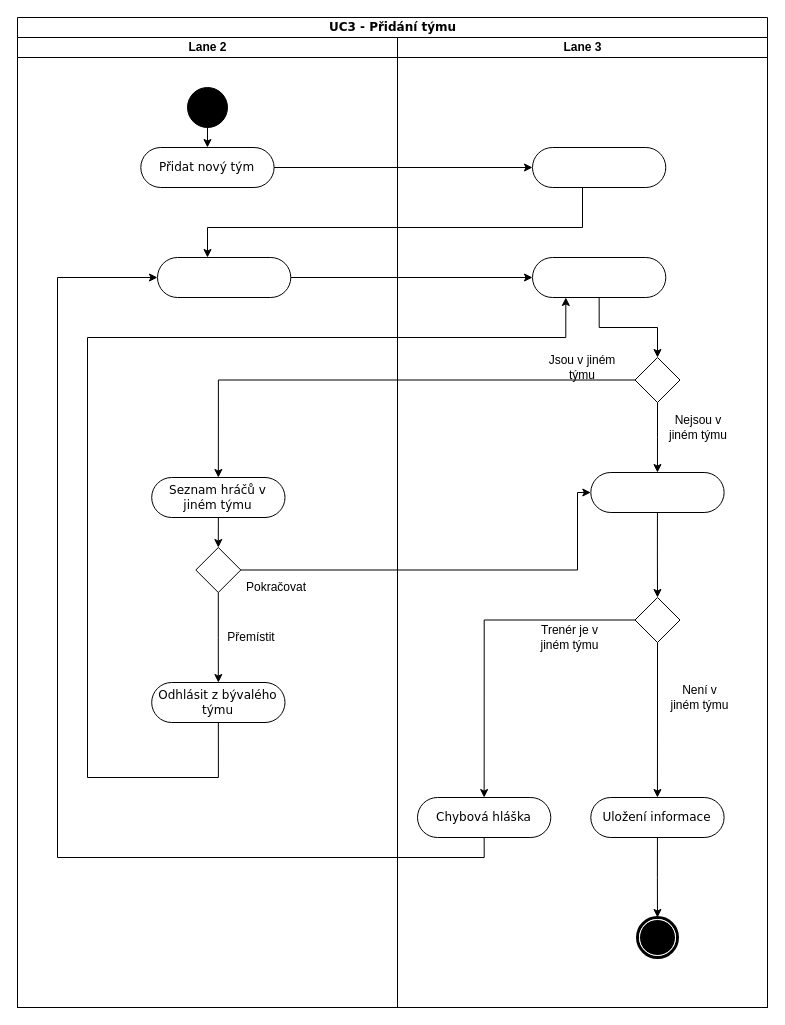
The diagram is 785 pixels wide and 1025 high, and some of its shapes have lost their labels. The box of each missing label's shape, as (x1, y1, x2, y2) in pixels:
Formulář: (532, 146, 666, 188)
Ověření hráčů: (532, 256, 666, 298)
Ověření trenéra: (590, 472, 724, 512)
Vyplnit informace: (156, 256, 291, 298)
